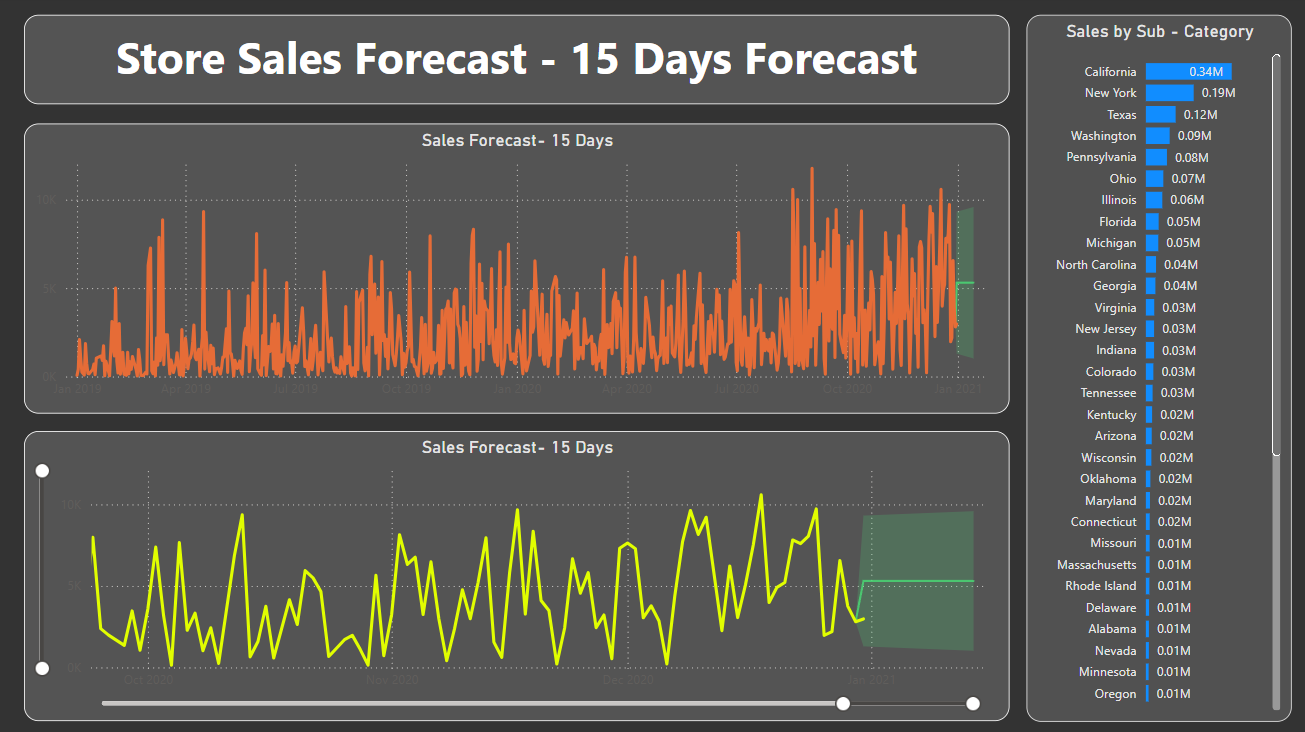

The dashboard page shown, as its layout file describes it:
{"tool":"powerbi","page":{"name":"Page 2","canvas":[1280,720],"ordinal":1},"visuals":[{"type":"lineChart","title":"Sales Forecast- 15 Days","fields":{"Y":["Sum(SalesForecast.Total Sales)"],"Category":["SalesForecast.Order Date"]},"box":[43.8,122.5,951.2,280],"z":0},{"type":"lineChart","title":"Sales Forecast- 15 Days","fields":{"Y":["Sum(SalesForecast.Total Sales)"],"Category":["SalesForecast.Order Date"]},"box":[43.8,420,951.2,280],"z":1000},{"type":"textbox","box":[43.8,17.5,951.2,86.2],"z":2000},{"type":"clusteredBarChart","title":"Sales by Sub - Category","fields":{"Category":["SuperStore_Sales_Dataset.State"],"Y":["Sum(SuperStore_Sales_Dataset.Sales)"]},"box":[1011.2,17.5,256.2,682.5],"z":3000}]}

Visuals, with their boxes in screenshot pixels (x1, y1, x2, y2), scaled from the page's 1280x720 canvas onto the 1305x732 screenshot:
"Sales Forecast- 15 Days" lineChart: left=45, top=125, right=1014, bottom=409
"Sales Forecast- 15 Days" lineChart: left=45, top=427, right=1014, bottom=712
textbox: left=45, top=18, right=1014, bottom=105
"Sales by Sub - Category" clusteredBarChart: left=1031, top=18, right=1292, bottom=712
